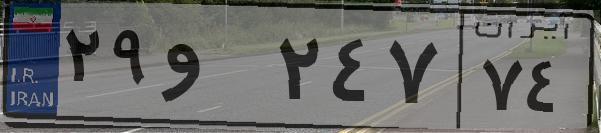2: (270, 28, 330, 110), (57, 26, 110, 100)
4: (330, 28, 385, 110), (525, 38, 570, 115)
7: (385, 28, 445, 110), (475, 38, 525, 113)
9: (110, 28, 158, 98)
و: (158, 20, 270, 120)
